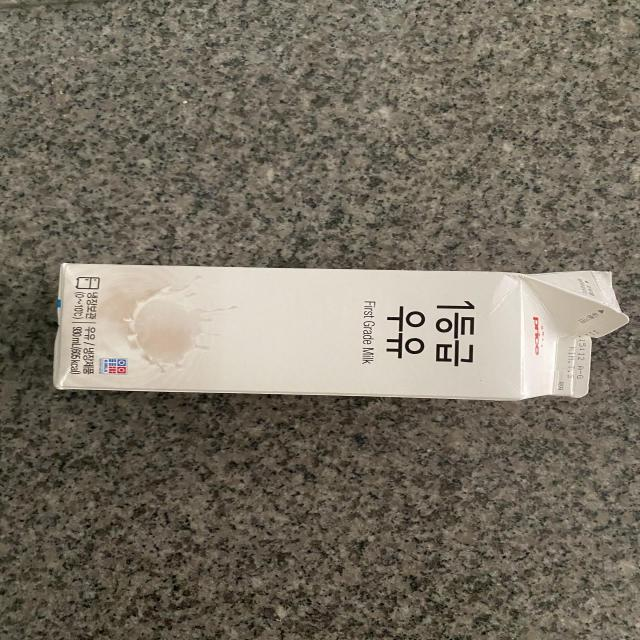paperpack: (52, 263, 630, 401)
